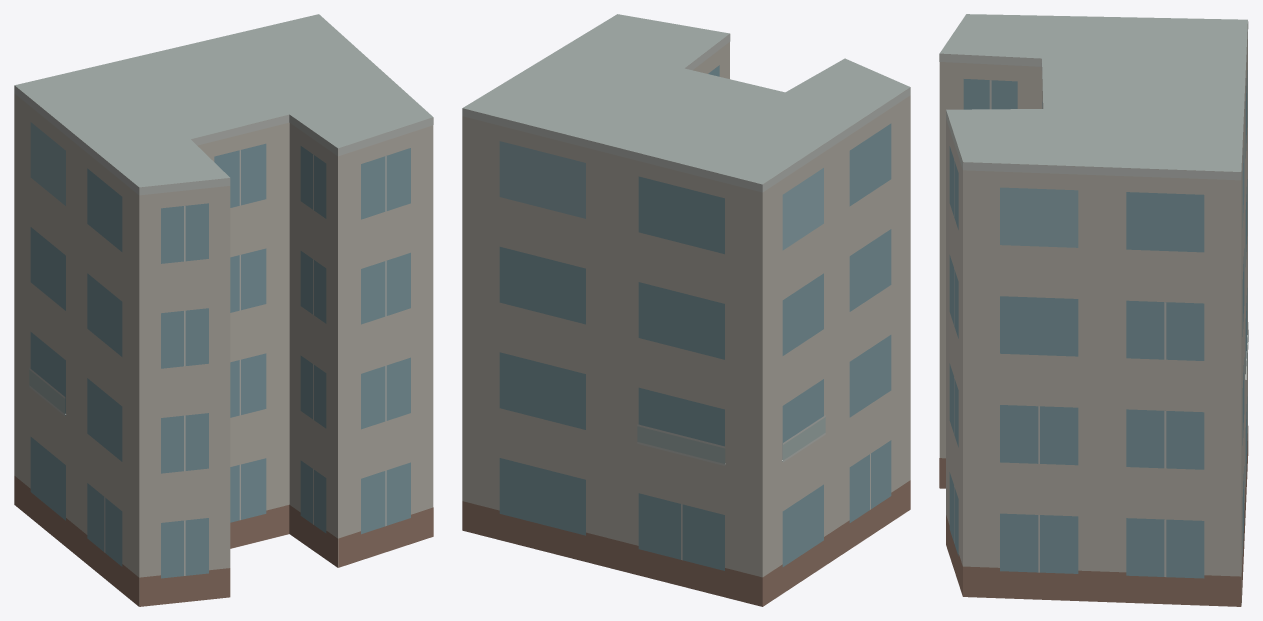
Rendered from survey-upis-33030759.glb.
3 renders of one model, left to right at view 1: azimuth 30°, elevation 25°; view 2: azimuth 150°, elevation 25°; view 3: azimuth 270°, elevation 25°, orthographic. The views are drawn at different scales.
Visible parts, largest first — view 1: survey-upis-33030759.tmp; view 2: survey-upis-33030759.tmp; view 3: survey-upis-33030759.tmp.
Part boxes in pixels (x1=…): survey-upis-33030759.tmp: x1=14, y1=14, x2=433, y2=606; survey-upis-33030759.tmp: x1=462, y1=14, x2=910, y2=606; survey-upis-33030759.tmp: x1=939, y1=14, x2=1248, y2=606.
Size of the model in its own units: 9.99 by 12.8 by 8.26.
